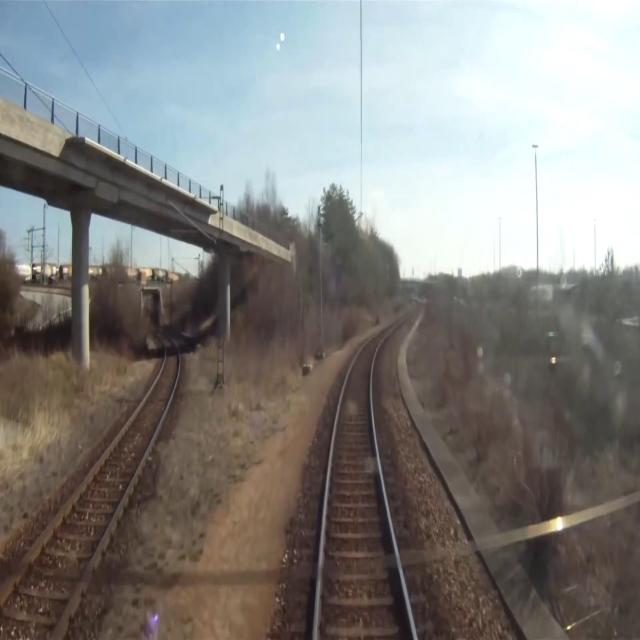rail-track: (0, 323, 177, 639), (318, 299, 413, 639)
